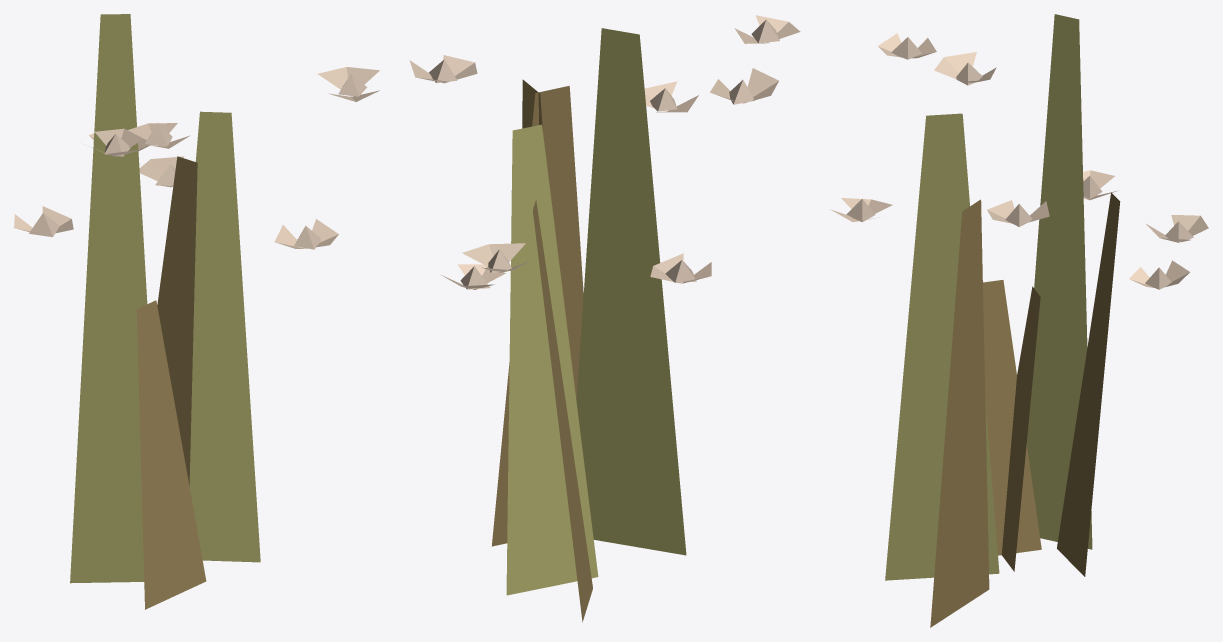
The model's file is nong.mai@flowering__autumn.glb.
The picture shows the model from 3 angles, left to right: view 1: azimuth 30°, elevation 25°; view 2: azimuth 150°, elevation 25°; view 3: azimuth 270°, elevation 25°; orthographic projection. The views are drawn at different scales.
Visible parts, largest first — view 1: nong.mai@flowering__autumn; view 2: nong.mai@flowering__autumn; view 3: nong.mai@flowering__autumn.
Boxes of the visible parts, box(x1,y1,x2,y2) form: nong.mai@flowering__autumn: box(14, 14, 379, 609); nong.mai@flowering__autumn: box(409, 15, 800, 622); nong.mai@flowering__autumn: box(830, 14, 1208, 627).
Bounding box in the file's own units: 0.556 × 0.894 × 0.5986.
